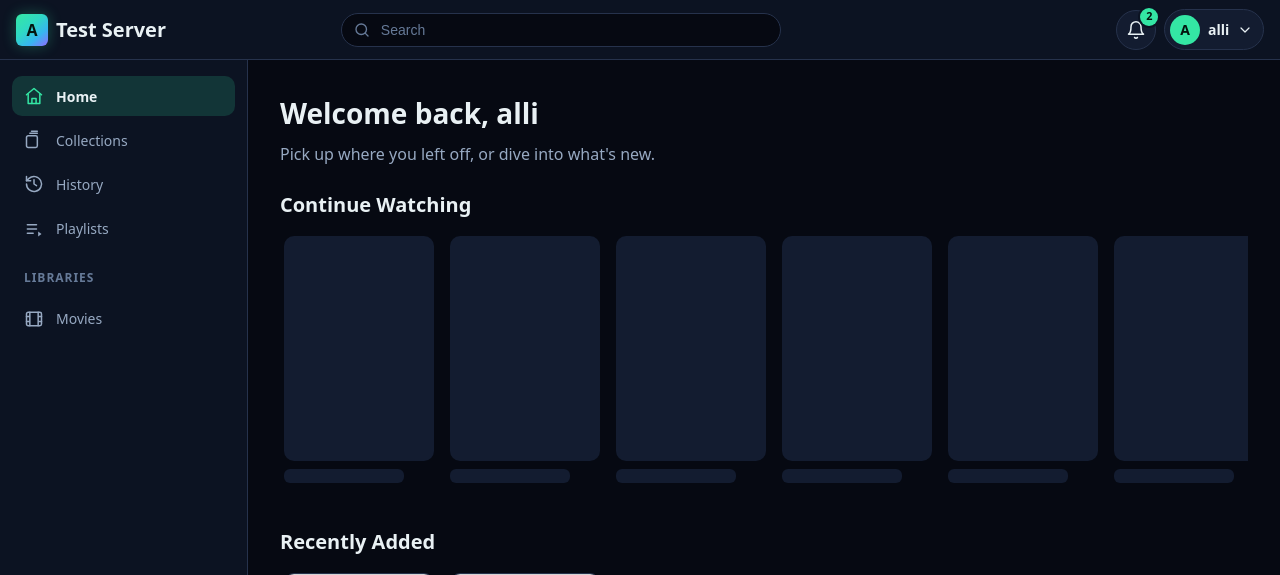
Test: NewMediaMenu › lists recent items linking to /items/:id and clears the badge on open
Check: the heading "Welcome back, alli" is shown, box [280,94,539,132]
# A fresh user (no marker) treats every recently-added item as new.
Click the button named "2 new items". click: (1136,30)
box: [1116,10,1156,50]
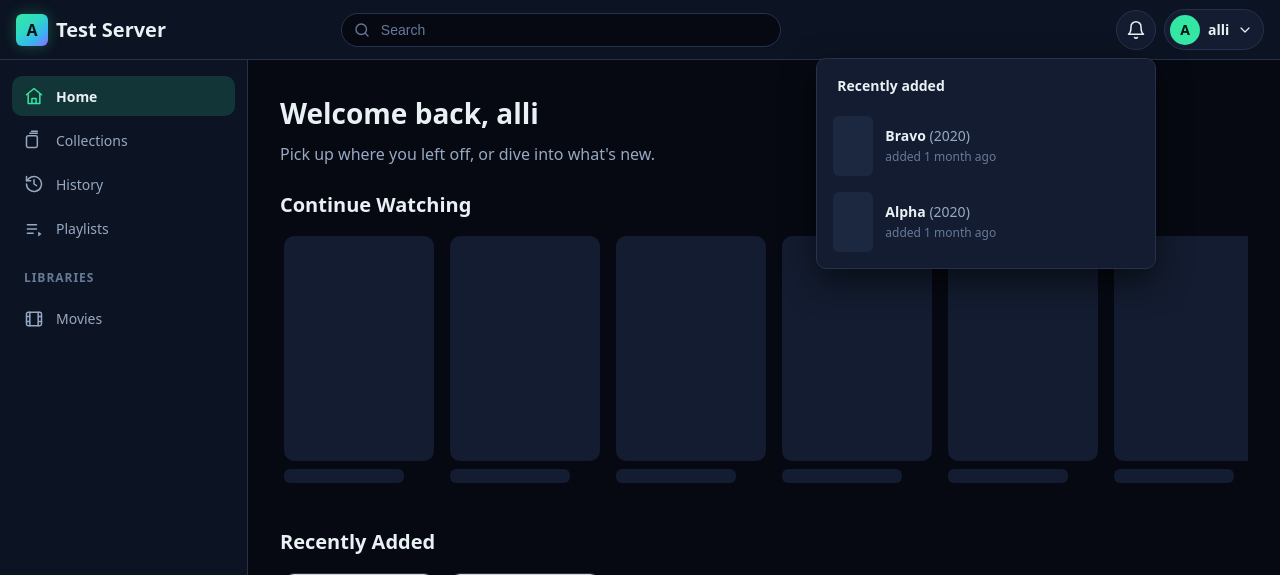
Check: the number of menu items is 2, box [833,116,996,176]; [833,192,996,252]
# Reopening: the items are still listed, but nothing is unread.
Press Escape in the menu "Recently added", box [816,58,1156,268]
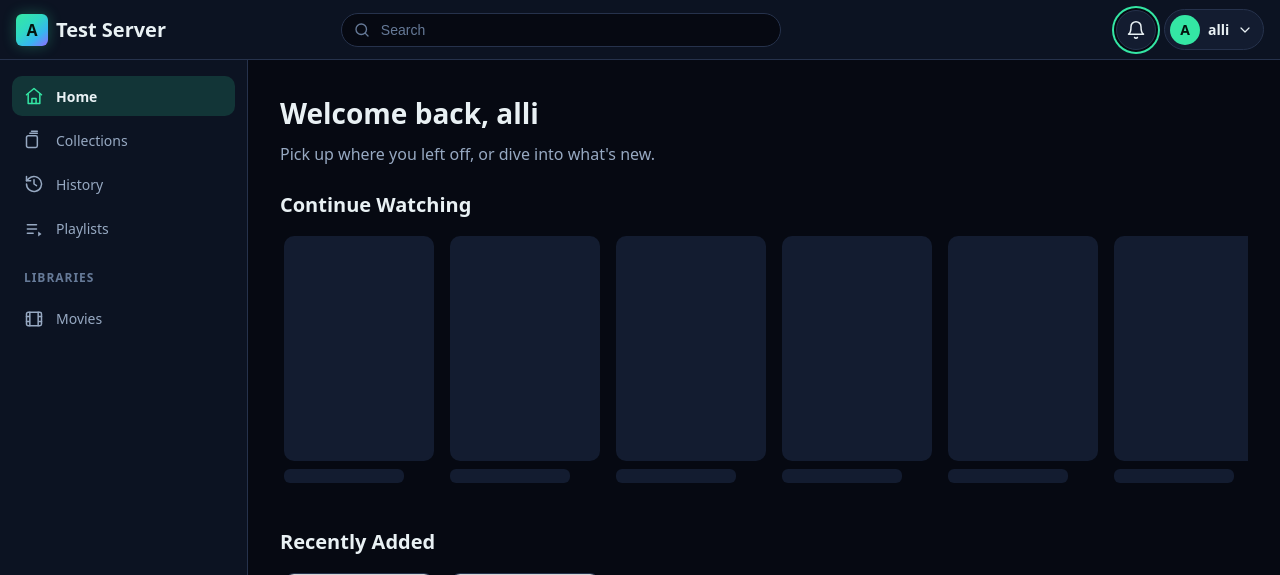
Click the button named "Recently added". click: (1136,30)
box: [1116,10,1156,50]
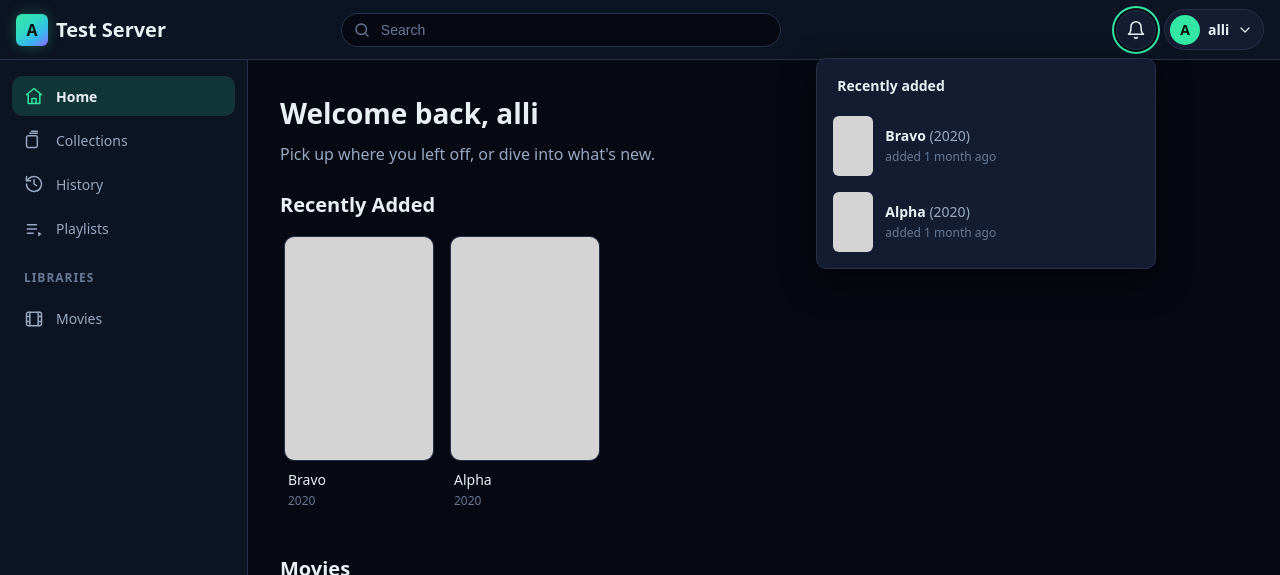
Check: the number of menu items is 2, box [833,116,996,176]; [833,192,996,252]
